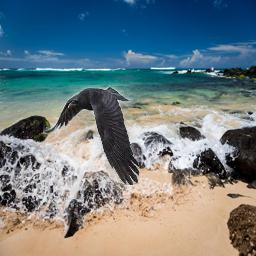Crow: (43, 85, 139, 185)
